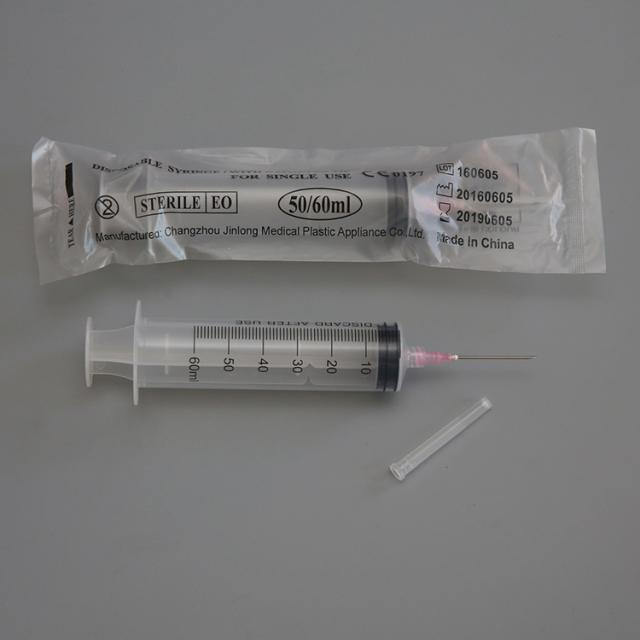B3: (24, 136, 616, 286), (63, 281, 575, 414)
